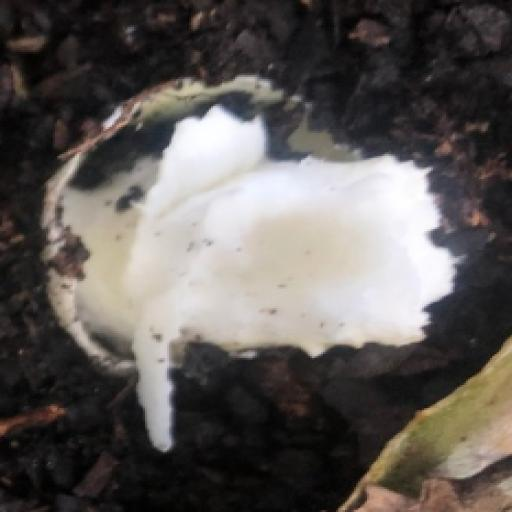mushroom: (4, 4, 492, 468)
